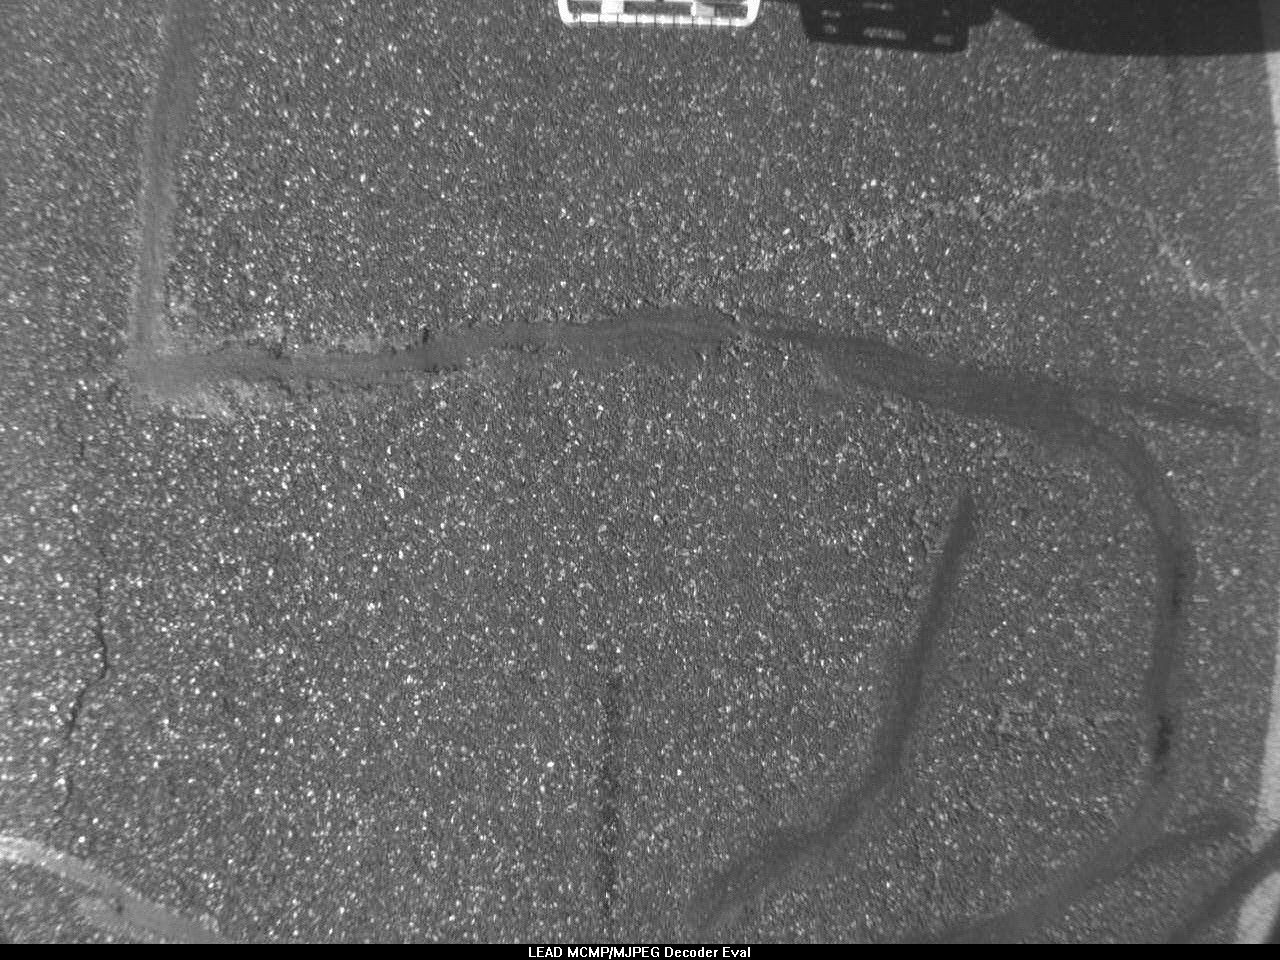sealed: (205, 299, 1248, 435), (706, 496, 986, 942), (119, 8, 197, 413), (4, 837, 229, 941)
